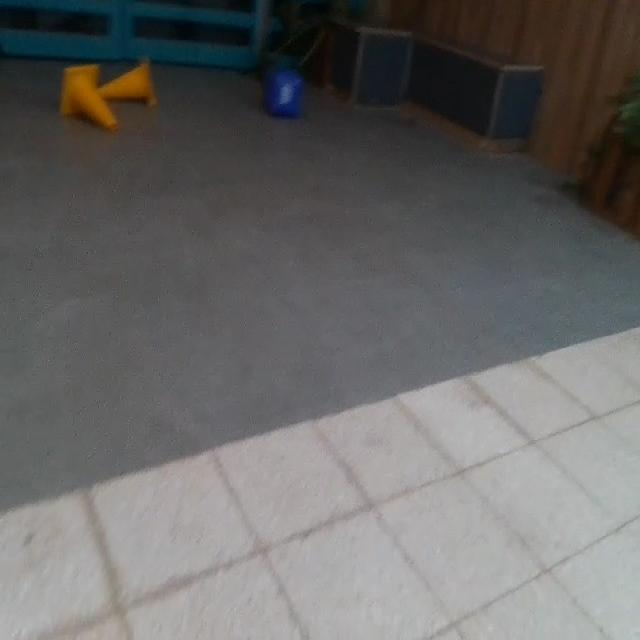cone: (57, 61, 122, 134), (90, 56, 160, 108)
cube: (264, 69, 303, 121)
